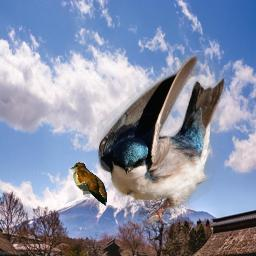Cuckoo: (70, 162, 107, 206)
Swallow: (97, 54, 226, 228)
